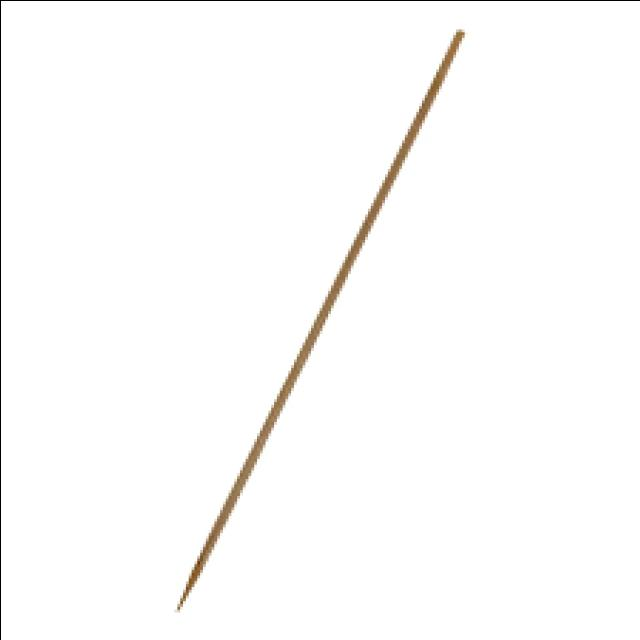stick: (179, 29, 461, 609)
